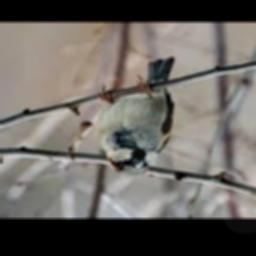Sparrow: (98, 57, 175, 176)
